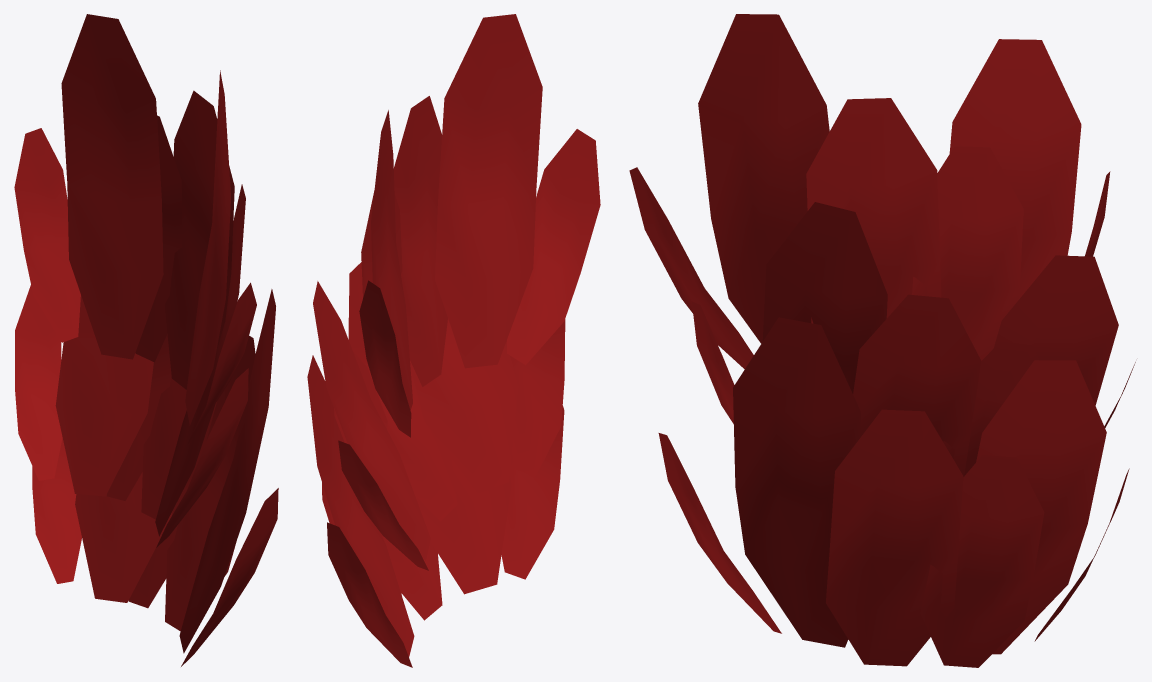
The model's file is hedge_GrassWallTall01.fbx.
3 renders of one model, left to right at view 1: azimuth 30°, elevation 25°; view 2: azimuth 150°, elevation 25°; view 3: azimuth 270°, elevation 25°, orthographic. The views are drawn at different scales.
Visible parts, largest first — view 1: hedgeGrass.026; view 2: hedgeGrass.026; view 3: hedgeGrass.026.
Boxes of the visible parts, <box> form: hedgeGrass.026: <box>14,14,278,666</box>; hedgeGrass.026: <box>307,14,600,667</box>; hedgeGrass.026: <box>629,14,1135,667</box>.
Size of the model in its own units: 21.25 by 81.92 by 57.74.
